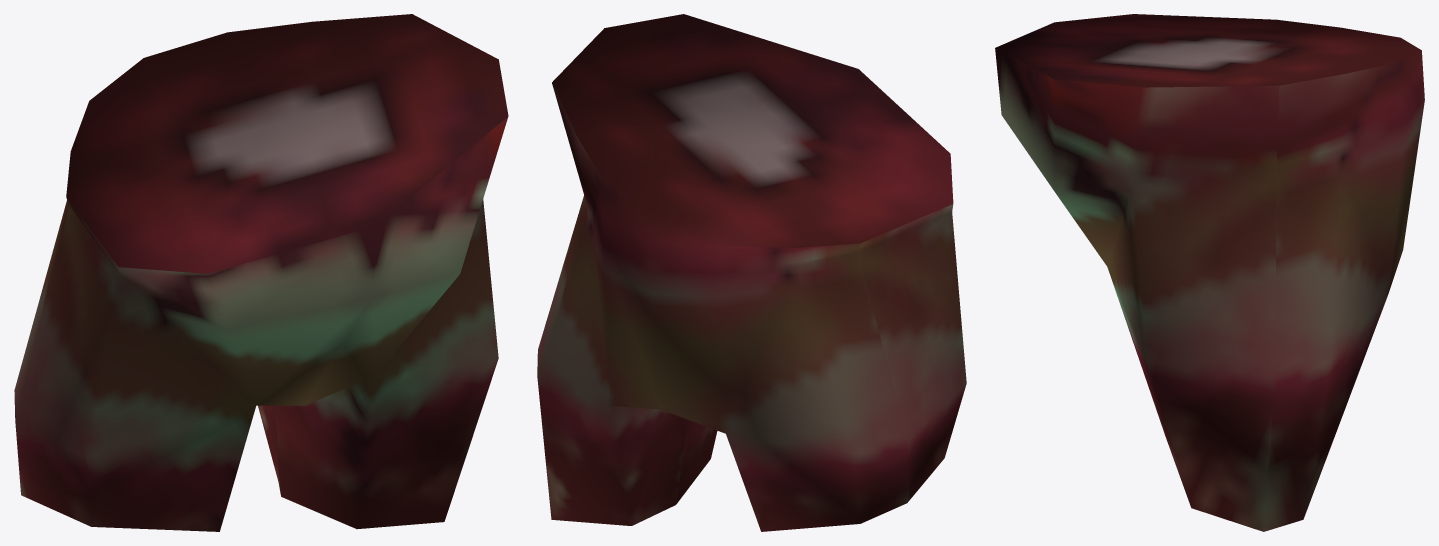
File: Goblin_hip.fbx
The picture shows the model from 3 angles, left to right: view 1: azimuth 30°, elevation 25°; view 2: azimuth 150°, elevation 25°; view 3: azimuth 270°, elevation 25°; orthographic projection. The views are drawn at different scales.
Parts seen in each view (by area): view 1: goblin.003; view 2: goblin.003; view 3: goblin.003.
Part boxes in pixels (x1=…): goblin.003: x1=14, y1=14, x2=508, y2=531; goblin.003: x1=537, y1=14, x2=966, y2=531; goblin.003: x1=995, y1=14, x2=1424, y2=531.
Size of the model in its own units: 263 by 294 by 257.
Materials: 1 (1 with a texture image).
